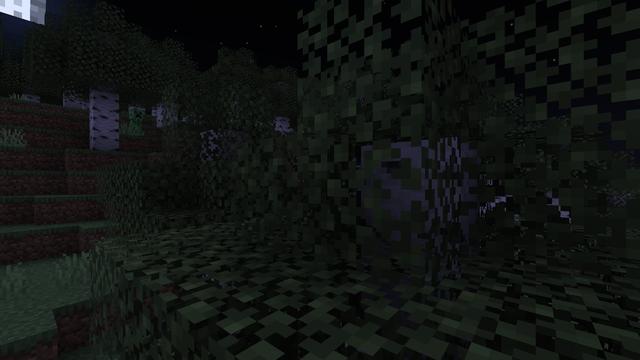creepers: (128, 106, 143, 131)
